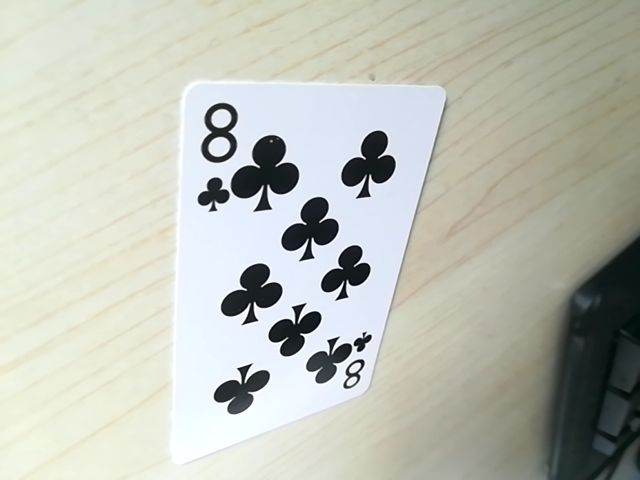mh 8: (190, 90, 244, 212), (332, 327, 384, 390)
